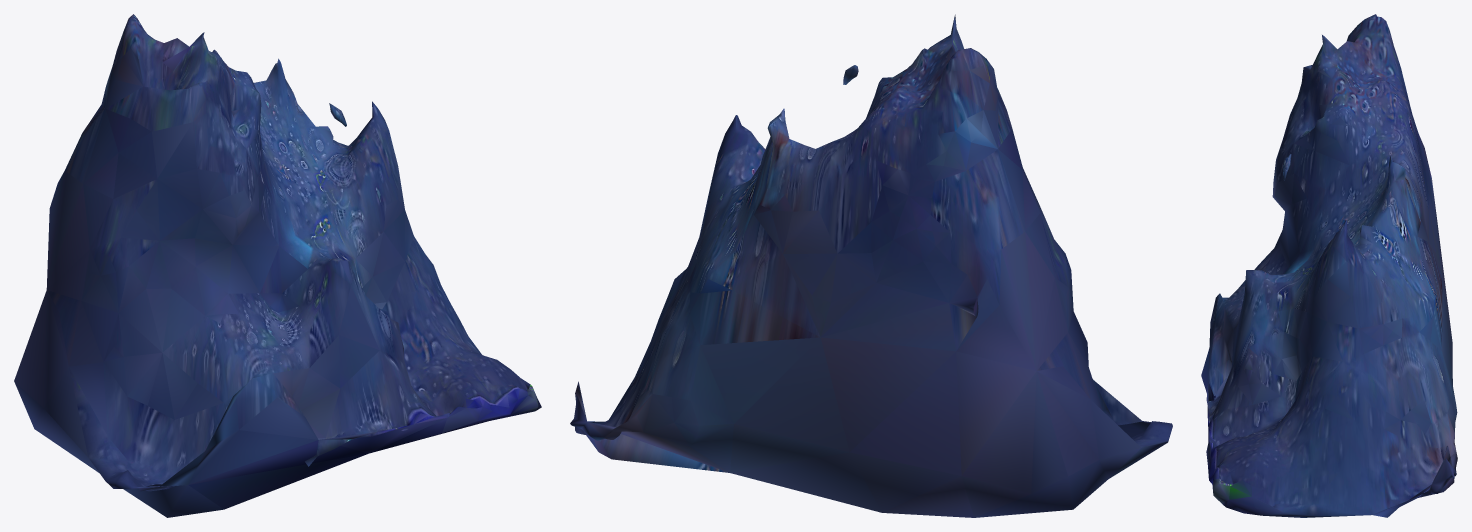
The model's file is levelup1216P190522.glb.
The picture shows the model from 3 angles, left to right: view 1: azimuth 30°, elevation 25°; view 2: azimuth 150°, elevation 25°; view 3: azimuth 270°, elevation 25°; orthographic projection. The views are drawn at different scales.
Parts seen in each view (by area): view 1: levelup_1216P190522; view 2: levelup_1216P190522; view 3: levelup_1216P190522.
Boxes of the visible parts, x1=… form: levelup_1216P190522: x1=14, y1=14, x2=541, y2=517; levelup_1216P190522: x1=570, y1=14, x2=1172, y2=517; levelup_1216P190522: x1=1201, y1=14, x2=1457, y2=517.
Bounding box in the file's own units: 14.54 × 13.76 × 8.56.
1 material, 1 textured.
